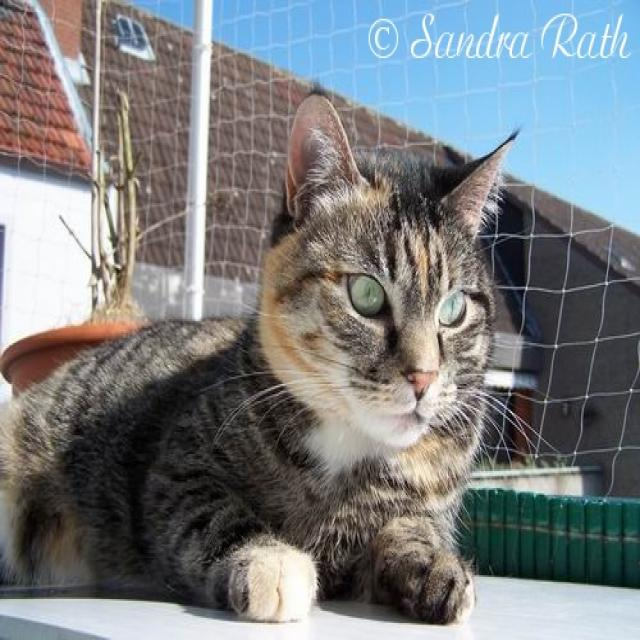left eye: (436, 285, 468, 328)
